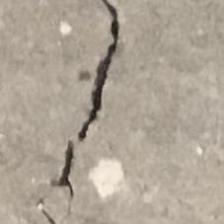Crack: (64, 0, 131, 194)
